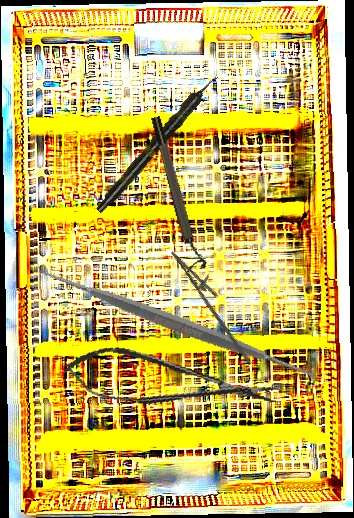Fixation Ring: (148, 113, 208, 273)
Handpiece: (93, 71, 222, 216)
Micro Scissor: (61, 338, 280, 428)
Needle Holder: (157, 243, 273, 366)
Spatula Surgical: (34, 182, 319, 464)
